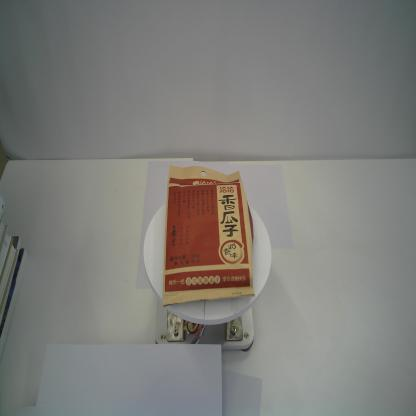Dried Food: (161, 164, 256, 309)
